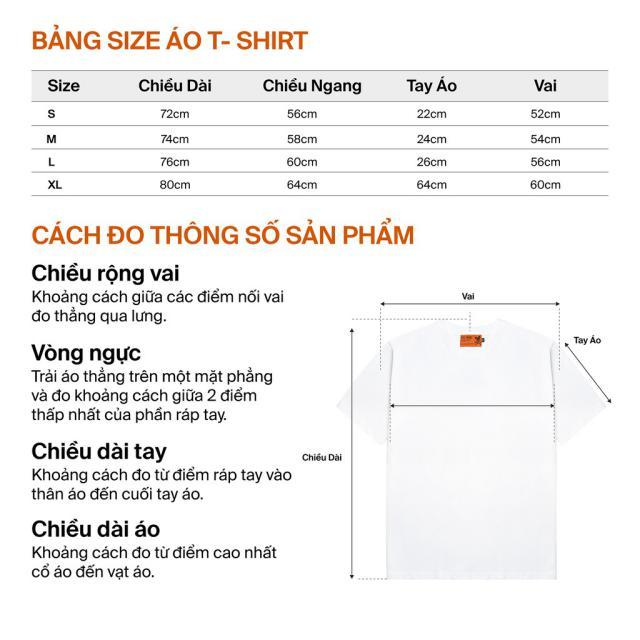Shirt: (336, 311, 614, 585)
